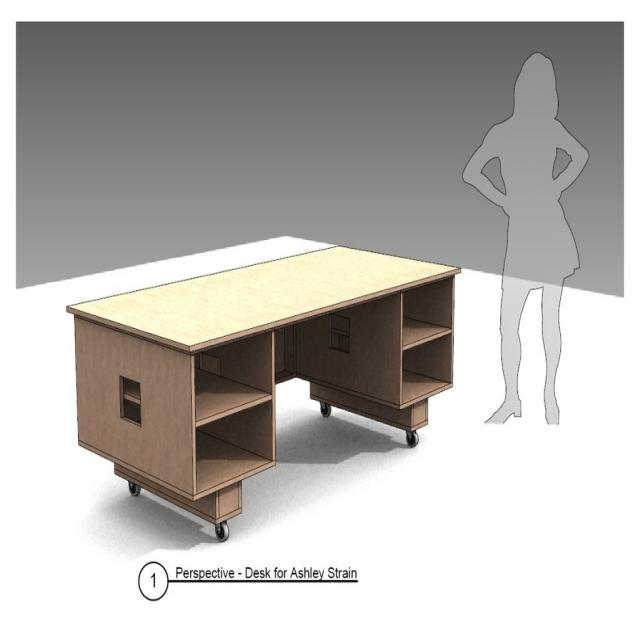desk: (52, 235, 477, 541)
